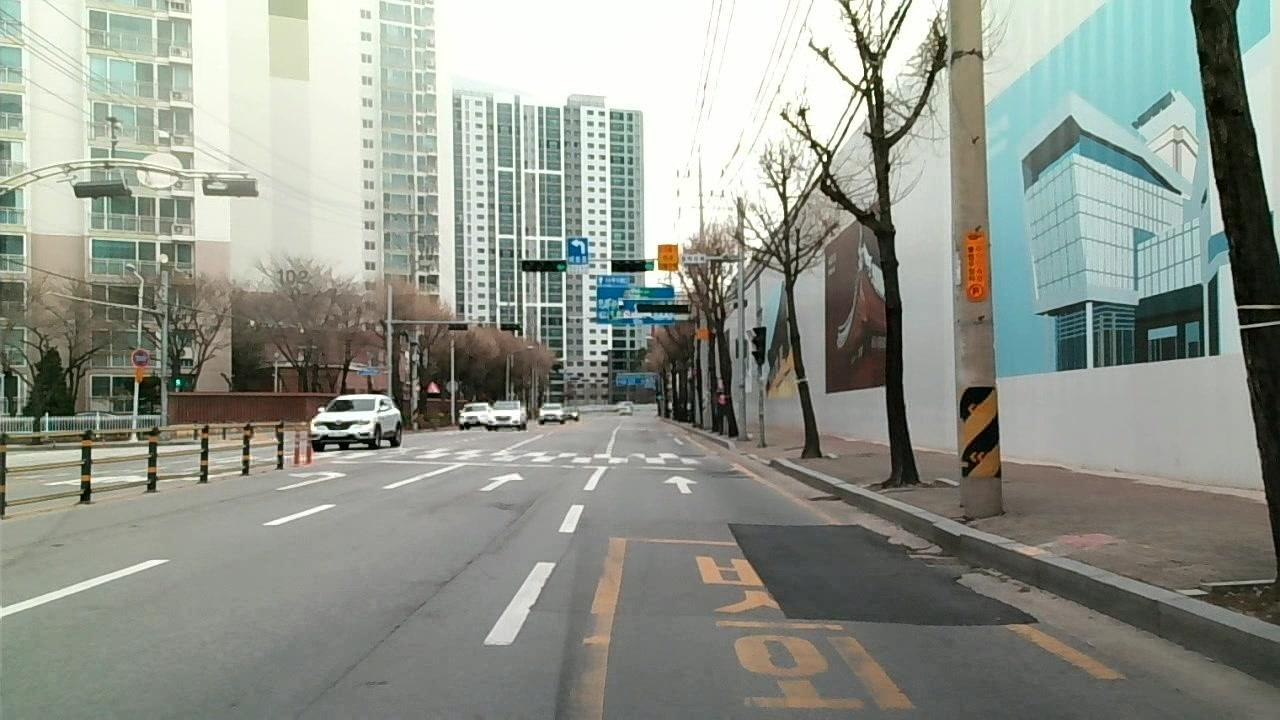hcrack: (793, 616, 1033, 627)
vcrack: (325, 552, 483, 690), (870, 525, 1001, 601), (723, 521, 790, 613)
